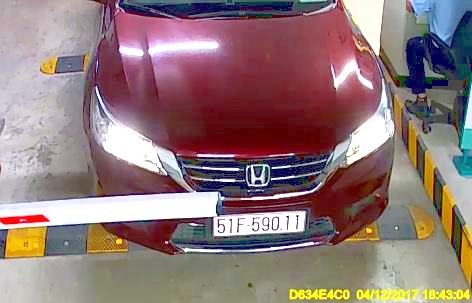plate: (214, 214, 304, 232)
